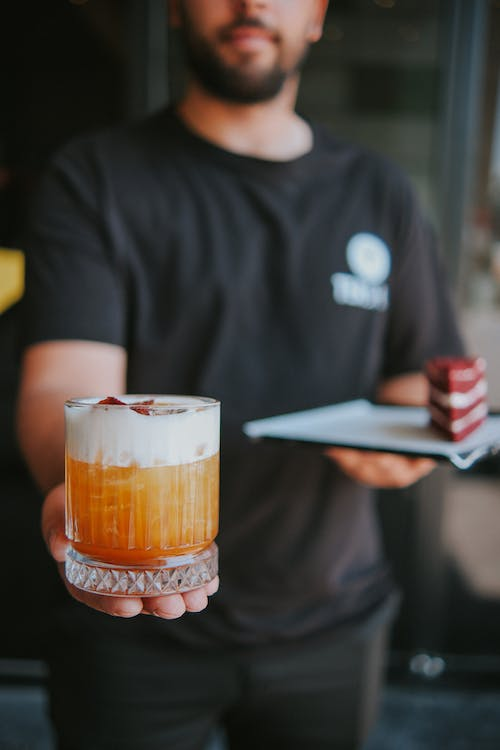alcohol: (61, 393, 223, 599)
